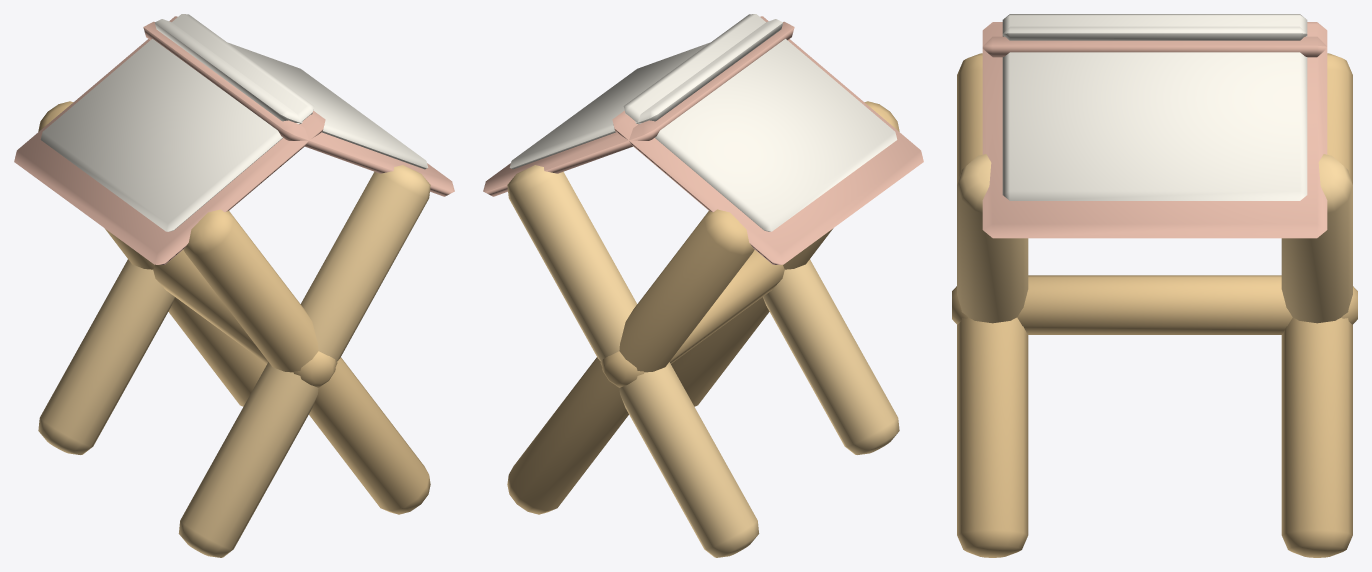
Rendered from rahle.glb.
3 views of the same model, side by side, from view 1: azimuth 30°, elevation 25°; view 2: azimuth 150°, elevation 25°; view 3: azimuth 270°, elevation 25° (orthographic). The views are drawn at different scales.
Parts seen in each view (by area): view 1: rahle; view 2: rahle; view 3: rahle.
Part boxes in pixels (box(x1,y1,x2,y2)): rahle: box(14, 14, 454, 557); rahle: box(483, 14, 923, 557); rahle: box(952, 14, 1357, 557).
Bounding box in the file's own units: 0.3952 × 0.5274 × 0.4.
